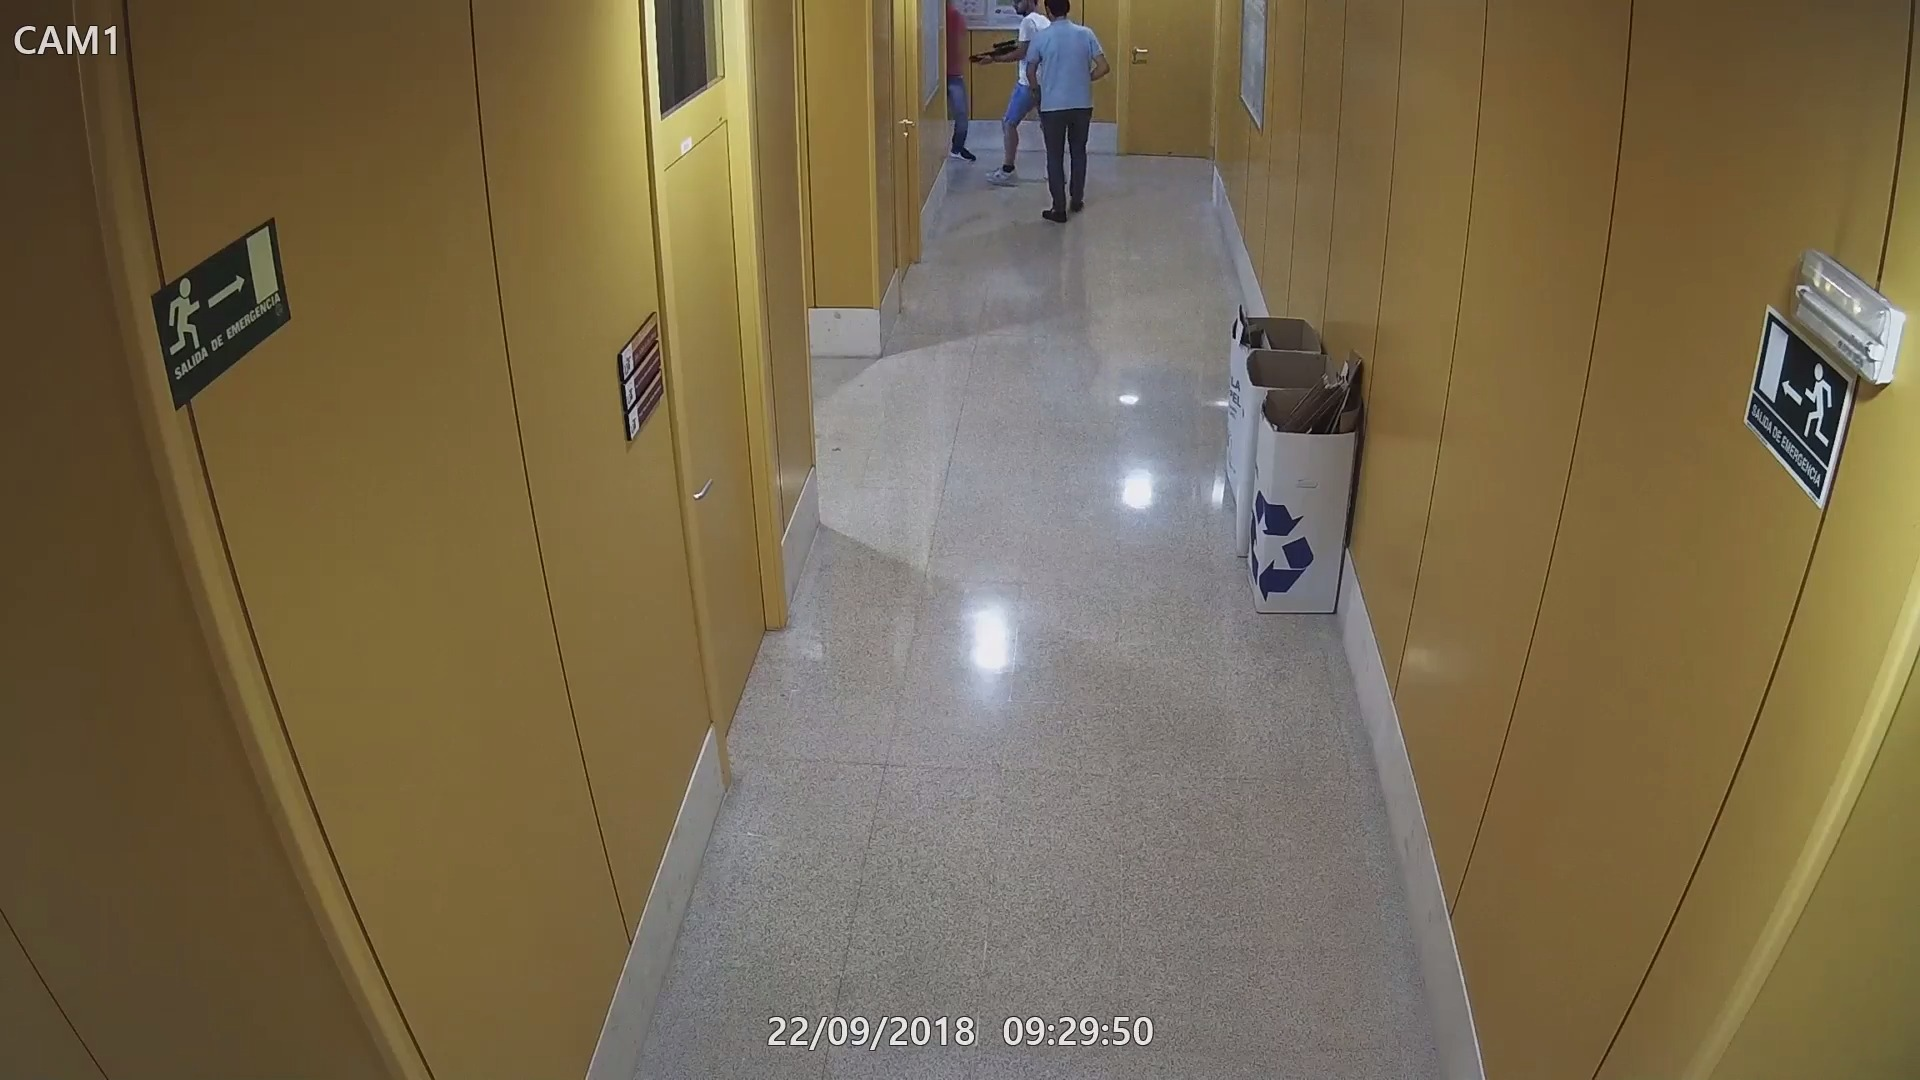Short_rifle: (967, 38, 1019, 65)
